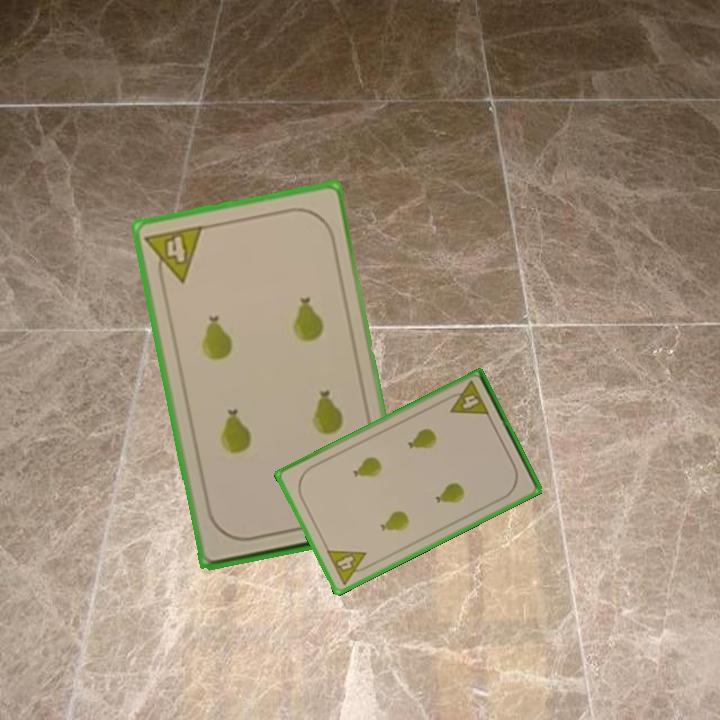4p: (141, 222, 206, 289), (323, 546, 375, 588), (442, 377, 492, 419)
